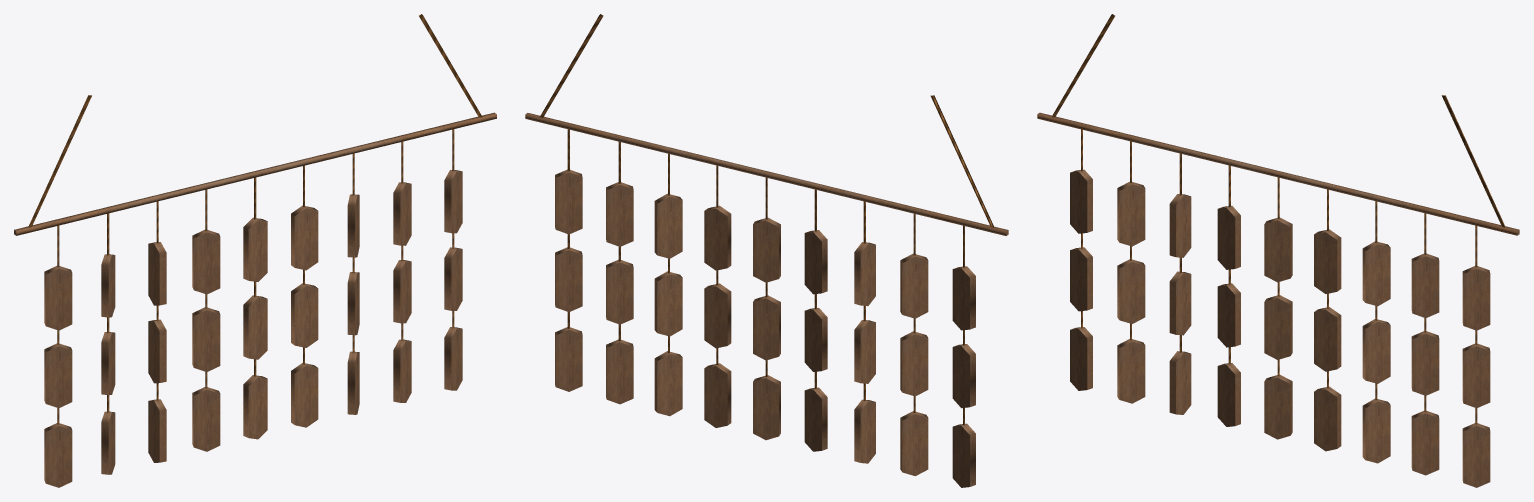
The model's file is mt_prop_jiupai.FBX.
The picture shows the model from 3 angles, left to right: view 1: azimuth 30°, elevation 25°; view 2: azimuth 150°, elevation 25°; view 3: azimuth 330°, elevation 25°; orthographic projection.
Parts seen in each view (by area): view 1: mt_prop_jiupai; view 2: mt_prop_jiupai; view 3: mt_prop_jiupai.
Part boxes in pixels (bbox=[...]): mt_prop_jiupai: bbox=[14, 14, 496, 487]; mt_prop_jiupai: bbox=[525, 14, 1008, 487]; mt_prop_jiupai: bbox=[1037, 14, 1519, 487].
Size of the model in its own units: 499 by 380 by 24.8.
